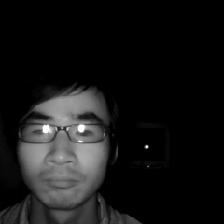normal: (11, 69, 117, 211)
